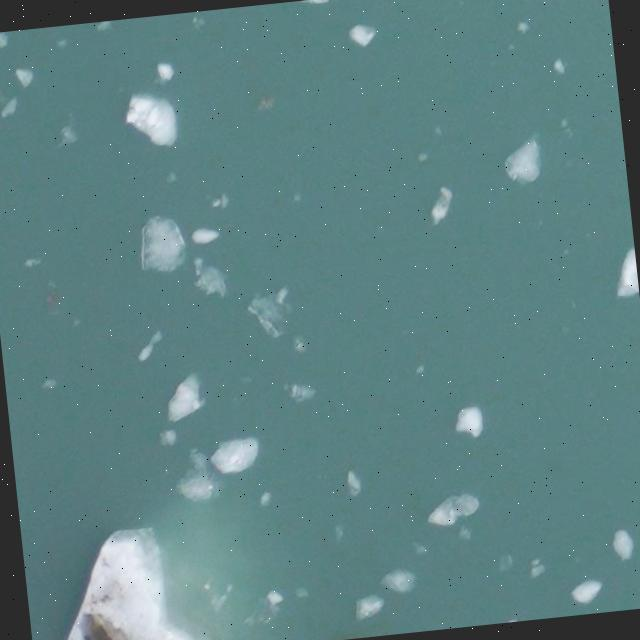seal: (84, 613, 128, 640)
